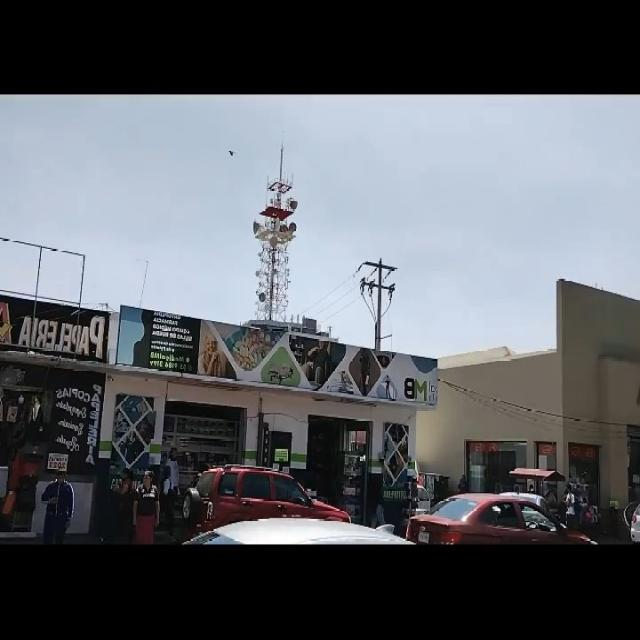adult: (100, 469, 136, 542), (40, 467, 74, 544), (134, 470, 160, 544), (158, 466, 178, 542), (164, 447, 181, 500)
